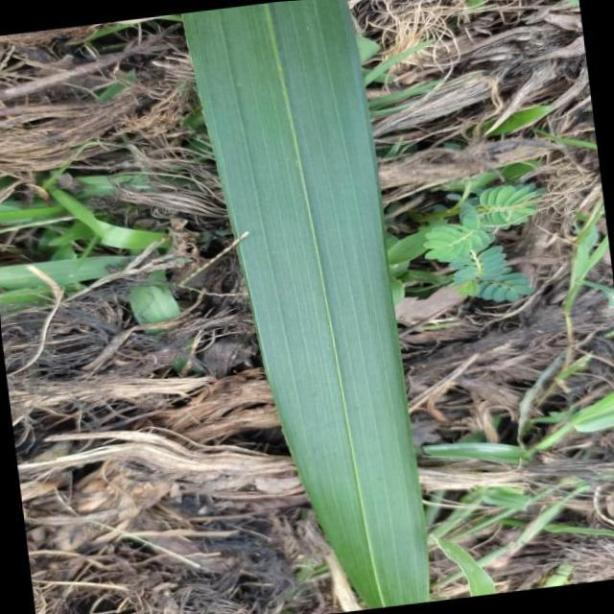Healthy: (186, 5, 430, 614)
